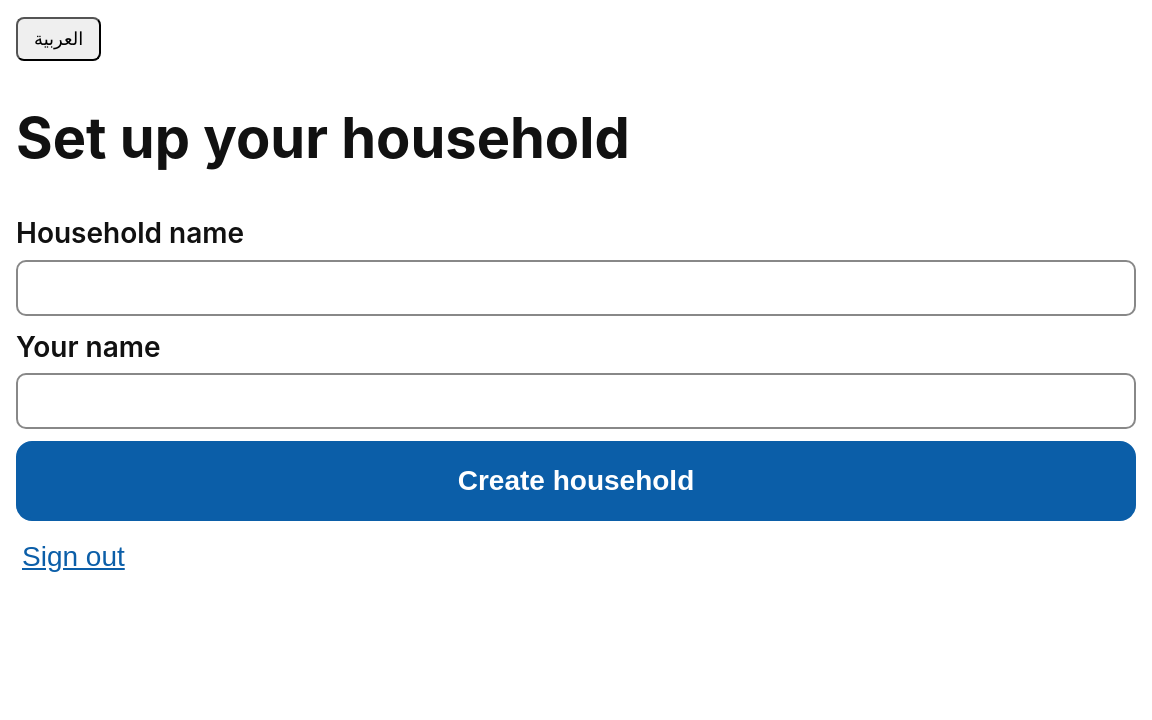
Scenario: onboarding and members › tells a stranger the app is already set up
In the field labelled "Household name": (576, 288) [16,260,1136,316], type "X"
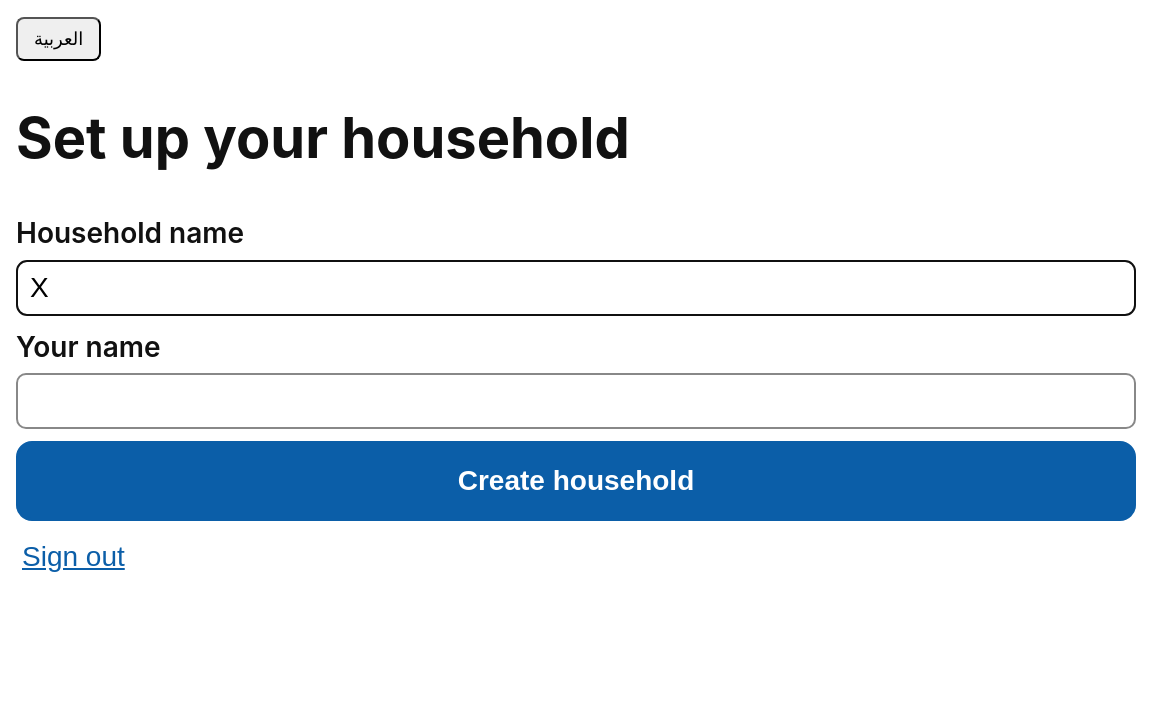
In the field labelled "Your name": (576, 401) [16,373,1136,429], type "Y"
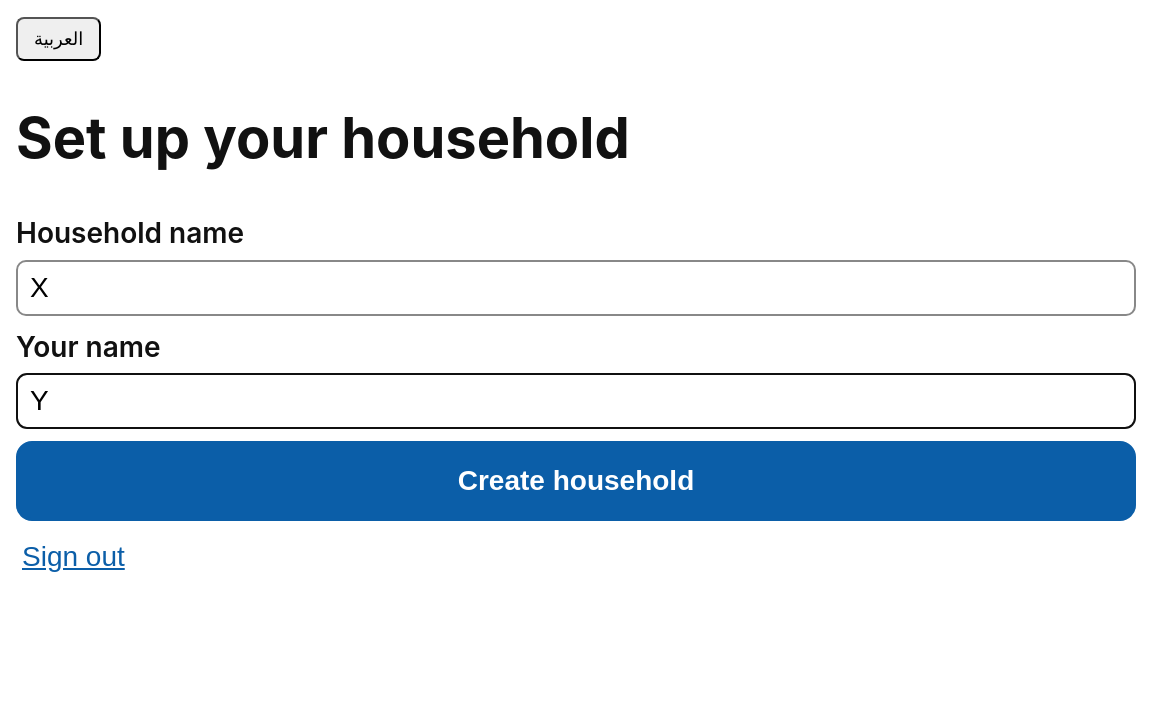
Click the button "Create household": click(576, 481) [16,441,1136,521]
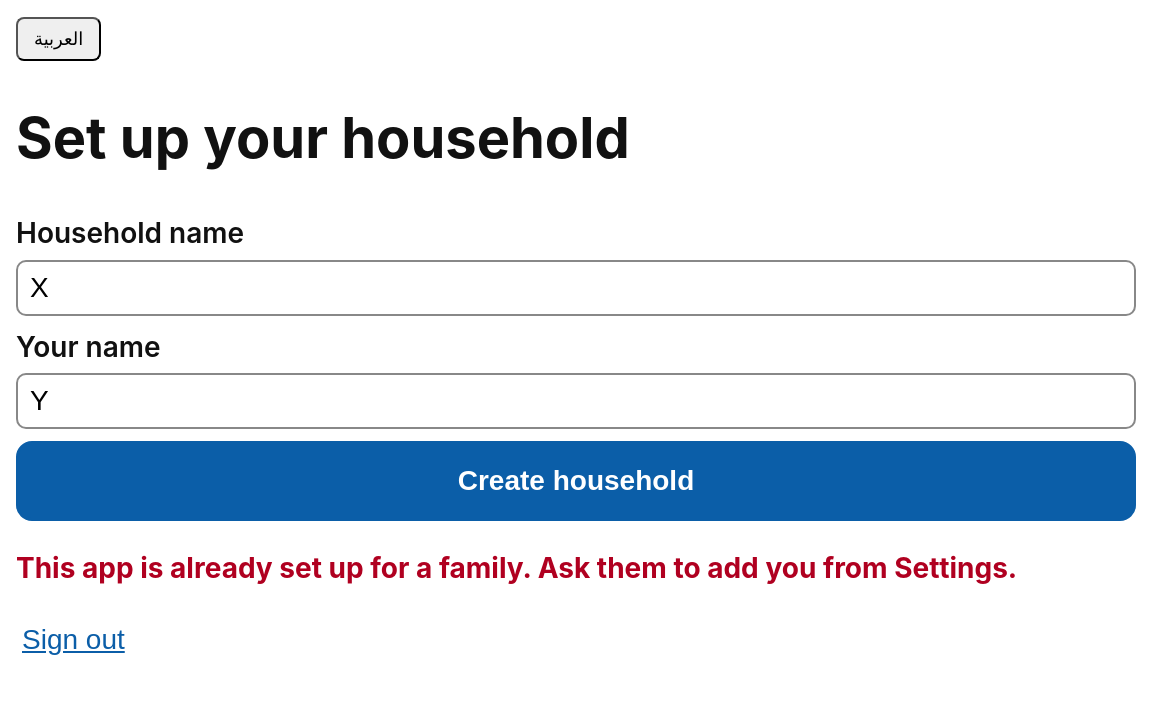
Result: the message shows "already set up" at [16,551,1017,585]
